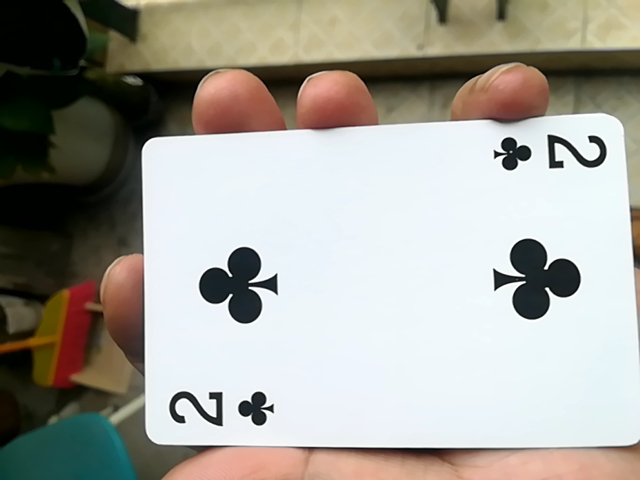mh 2: (130, 117, 635, 463)
